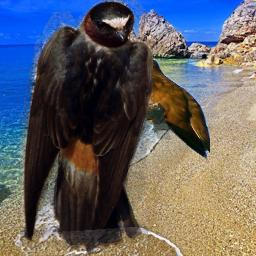Cuckoo: (123, 57, 210, 160)
Swallow: (20, 0, 153, 255)
